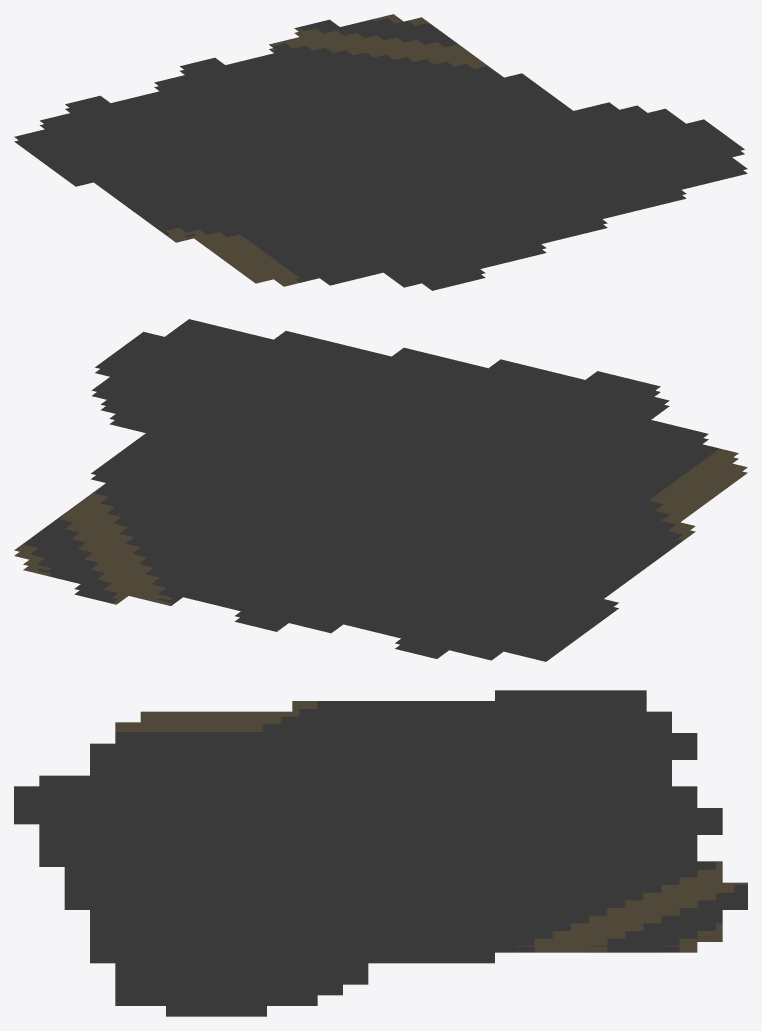
The model's file is Battery.fbx.
The picture shows the model from 3 angles, top to bottom: view 1: azimuth 30°, elevation 25°; view 2: azimuth 150°, elevation 25°; view 3: azimuth 270°, elevation 25°; orthographic projection. The views are drawn at different scales.
Visible parts, largest first — view 1: 1电池.001; view 2: 1电池.001; view 3: 1电池.001.
Boxes of the visible parts, x1,y1,x2,y2 form: 1电池.001: [14, 14, 747, 290]; 1电池.001: [14, 319, 747, 661]; 1电池.001: [14, 690, 747, 1016].
Bounding box in the file's own units: 6000 × 50 × 5800.
